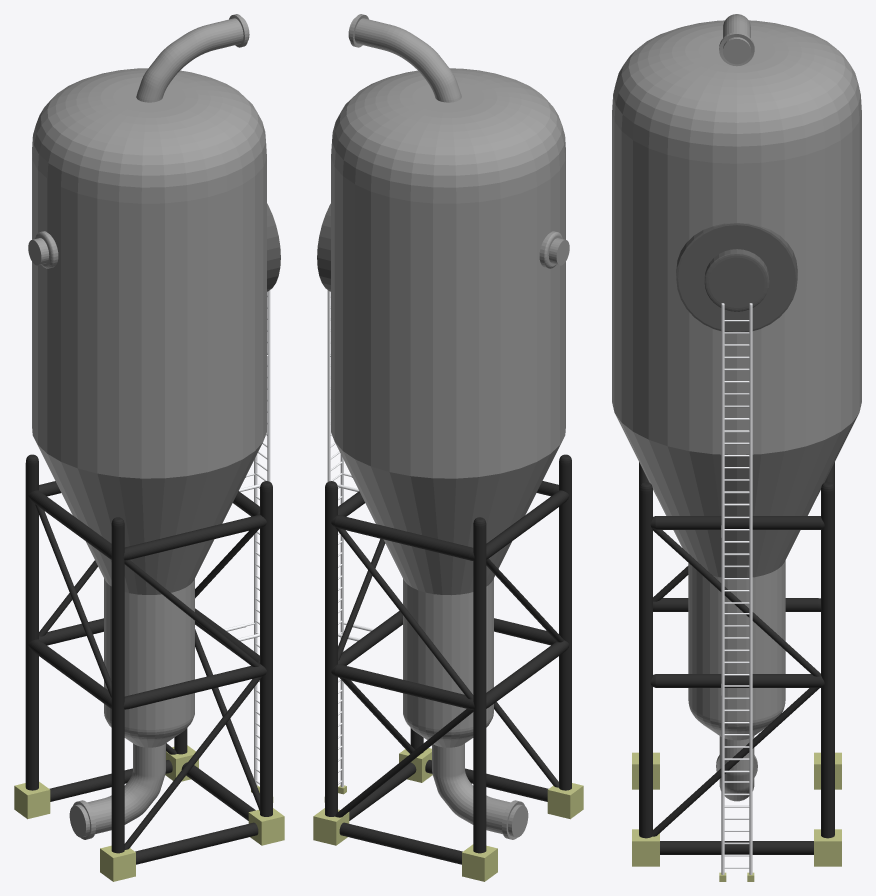
Rendered from reactor_KT1.obj.
3 renders of one model, left to right at view 1: azimuth 30°, elevation 25°; view 2: azimuth 150°, elevation 25°; view 3: azimuth 270°, elevation 25°, orthographic. The views are drawn at different scales.
Visible parts, largest first — view 1: Цилиндр.001_Цилиндр.002, Цилиндр_Цилиндр.001, Цилиндр.005_Цилиндр.006, Цилиндр.006_Цилиндр.007, Цилиндр.002_Цилиндр.003, Цилиндр.010_Цилиндр.012, Цилиндр.014_Цилиндр.016, Цилиндр.008_Цилиндр.010, Цилиндр.021_Цилиндр.025, Цилиндр.022_Цилиндр.026, Цилиндр.013_Цилиндр.015, Цилиндр.017_Цилиндр.019 (+14 smaller); view 2: Цилиндр.001_Цилиндр.002, Цилиндр_Цилиндр.001, Цилиндр.006_Цилиндр.007, Цилиндр.004_Цилиндр.005, Цилиндр.005_Цилиндр.006, Цилиндр.012_Цилиндр.014, Цилиндр.016_Цилиндр.018, Цилиндр.009_Цилиндр.011, Цилиндр.023_Цилиндр.027, Цилиндр.013_Цилиндр.015, Цилиндр.017_Цилиндр.019, Цилиндр.020_Цилиндр.024 (+15 smaller); view 3: Цилиндр.001_Цилиндр.002, Цилиндр.073_Цилиндр.078, Цилиндр.002_Цилиндр.003, Цилиндр.004_Цилиндр.005, Цилиндр_Цилиндр.001, Цилиндр.011_Цилиндр.013, Цилиндр.019_Цилиндр.030, Цилиндр.026_Цилиндр.031, Цилиндр.015_Цилиндр.017, Цилиндр.007_Цилиндр.009, Цилиндр.018_Цилиндр.022, Цилиндр.024_Цилиндр.028 (+5 smaller).
Part boxes in pixels (bbox=[...]): Цилиндр.001_Цилиндр.002: bbox=[32, 68, 266, 747]; Цилиндр_Цилиндр.001: bbox=[69, 14, 249, 839]; Цилиндр.005_Цилиндр.006: bbox=[111, 517, 124, 853]; Цилиндр.006_Цилиндр.007: bbox=[25, 454, 38, 790]; Цилиндр.002_Цилиндр.003: bbox=[260, 481, 272, 816]; Цилиндр.010_Цилиндр.012: bbox=[123, 514, 266, 560]; Цилиндр.014_Цилиндр.016: bbox=[123, 664, 266, 709]; Цилиндр.008_Цилиндр.010: bbox=[135, 822, 258, 864]; Цилиндр.021_Цилиндр.025: bbox=[124, 676, 261, 849]; Цилиндр.022_Цилиндр.026: bbox=[35, 504, 111, 697]; Цилиндр.013_Цилиндр.015: bbox=[28, 490, 111, 559]; Цилиндр.017_Цилиндр.019: bbox=[28, 639, 111, 708]; Цилиндр.001_Цилиндр.002: bbox=[331, 68, 565, 747]; Цилиндр_Цилиндр.001: bbox=[348, 14, 528, 839]; Цилиндр.006_Цилиндр.007: bbox=[473, 517, 486, 853]; Цилиндр.004_Цилиндр.005: bbox=[325, 481, 337, 816]; Цилиндр.005_Цилиндр.006: bbox=[559, 454, 571, 790]; Цилиндр.012_Цилиндр.014: bbox=[331, 515, 474, 560]; Цилиндр.016_Цилиндр.018: bbox=[331, 664, 474, 709]; Цилиндр.009_Цилиндр.011: bbox=[339, 822, 462, 864]; Цилиндр.023_Цилиндр.027: bbox=[335, 527, 473, 699]; Цилиндр.013_Цилиндр.015: bbox=[486, 490, 569, 559]; Цилиндр.017_Цилиндр.019: bbox=[486, 640, 569, 708]; Цилиндр.020_Цилиндр.024: bbox=[335, 709, 473, 817]; Цилиндр.001_Цилиндр.002: bbox=[612, 20, 861, 740]; Цилиндр.073_Цилиндр.078: bbox=[676, 223, 797, 332]; Цилиндр.002_Цилиндр.003: bbox=[639, 482, 652, 838]; Цилиндр.004_Цилиндр.005: bbox=[821, 482, 834, 838]; Цилиндр_Цилиндр.001: bbox=[716, 14, 757, 801]; Цилиндр.011_Цилиндр.013: bbox=[650, 516, 824, 529]; Цилиндр.019_Цилиндр.030: bbox=[749, 303, 752, 874]; Цилиндр.026_Цилиндр.031: bbox=[721, 303, 724, 874]; Цилиндр.015_Цилиндр.017: bbox=[650, 674, 824, 687]; Цилиндр.007_Цилиндр.009: bbox=[660, 841, 813, 854]; Цилиндр.018_Цилиндр.022: bbox=[652, 688, 819, 836]; Цилиндр.024_Цилиндр.028: bbox=[652, 528, 820, 676].
Bounding box in the file's own units: 10.08 × 32.95 × 8.93.
